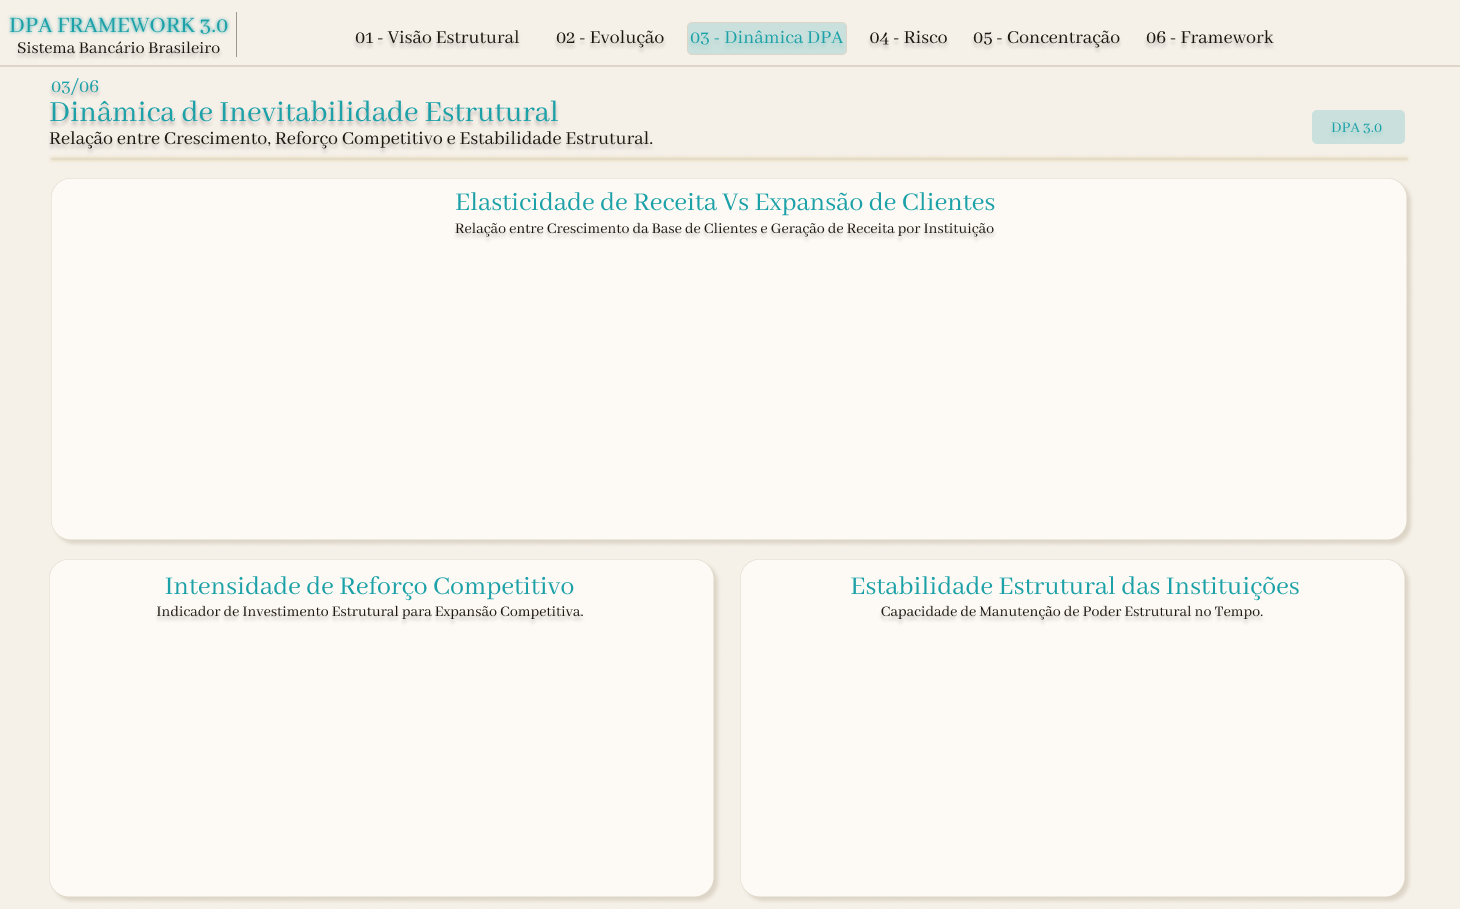

This screenshot's page, from the dashboard's own definition file:
{"tool":"powerbi","page":{"name":"Dinâmica DPA","canvas":[1460,909],"ordinal":2},"visuals":[{"type":"scatterChart","fields":{"X":["fato_financeiro_v2.Crescimento Clientes %"],"Y":["fato_financeiro_v2.Crescimento Receita %"],"Size":["fato_financeiro_v2.Clientes Totais"],"Series":["dim_banco_v2.nome_banco"],"Category":["dim_banco_v2.tipo_banco"]},"box":[50,233.8,1356.2,305],"z":0},{"type":"barChart","fields":{"Category":["dim_banco_v2.nome_banco"],"Y":["fato_financeiro_v2.Reforco"]},"box":[741.2,605,663.8,290],"z":1000},{"type":"columnChart","fields":{"Category":["dim_banco_v2.nome_banco"],"Y":["fato_financeiro_v2.Estabilidade"]},"box":[48.8,623.8,666.2,271.2],"z":2000},{"type":"pageNavigator","box":[342.5,12.5,933.8,48.8],"z":3000}]}

Visuals, with their boxes in screenshot pixels (x1, y1, x2, y2), scaled from the page's 1460x909 canvas onto the 1460x909 screenshot:
scatterChart - fato_financeiro_v2.Crescimento Clientes % x fato_financeiro_v2.Crescimento Receita %: detection(50, 234, 1406, 539)
barChart - dim_banco_v2.nome_banco x fato_financeiro_v2.Reforco: detection(741, 605, 1405, 895)
columnChart - dim_banco_v2.nome_banco x fato_financeiro_v2.Estabilidade: detection(49, 624, 715, 895)
pageNavigator: detection(342, 12, 1276, 61)
